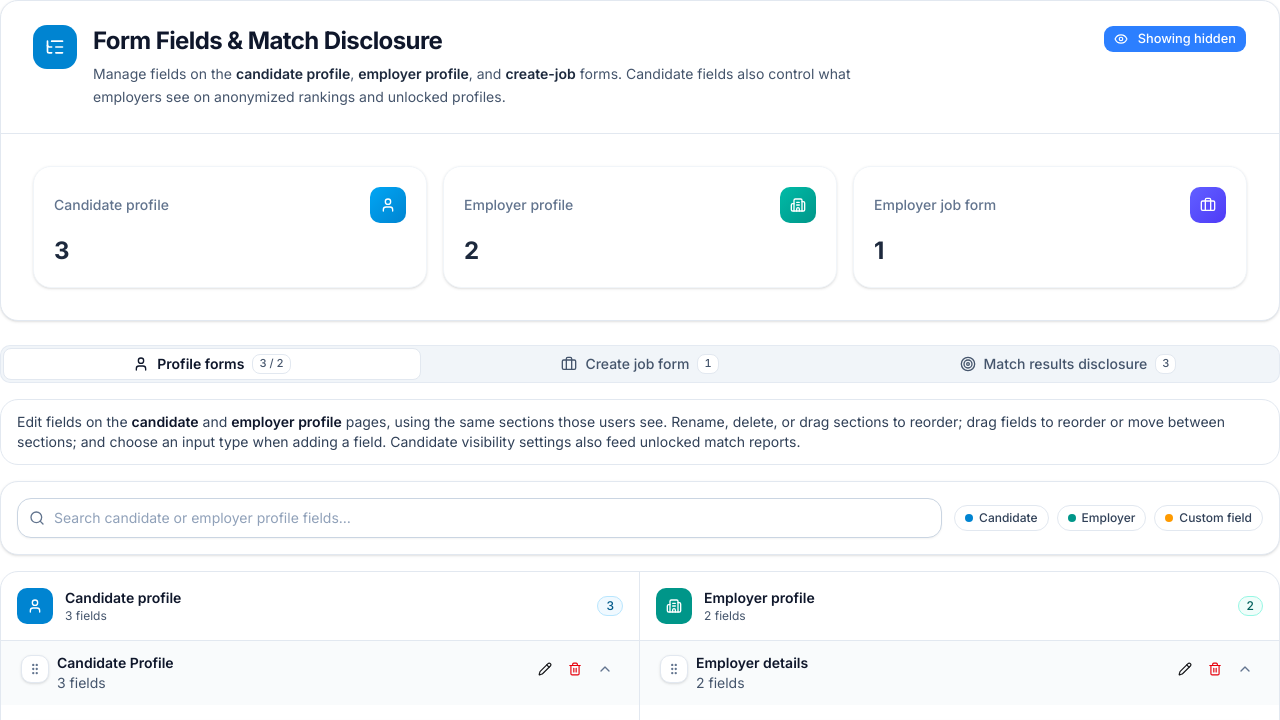
Test: FormFieldsComparisonEditor › shows employer job fields on the job tab
This screenshot has width=1280, height=720.
Click the tab "Create job form 1" at (640, 364), box [431,348,849,380]
(page scrolled)
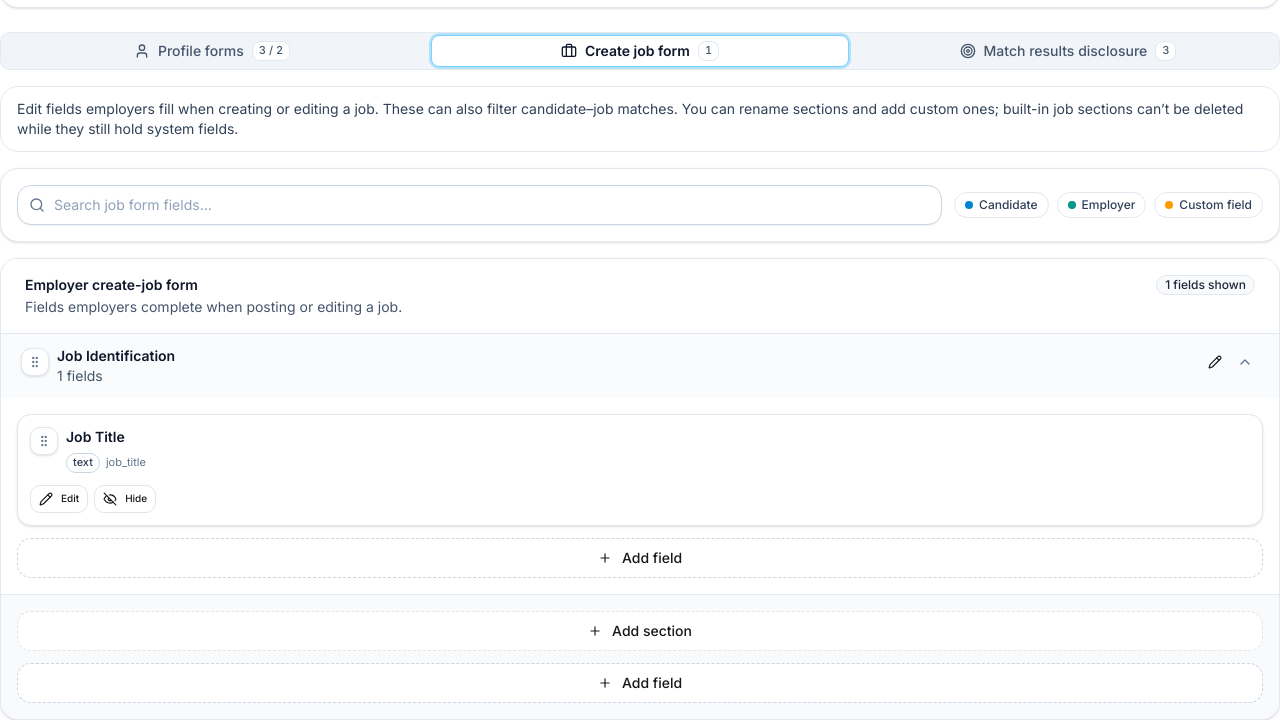
Expected: the text "Employer create-job form" is shown, [25,276,198,292]
Expected: the text "Job Title" is shown, [66,426,125,446]
